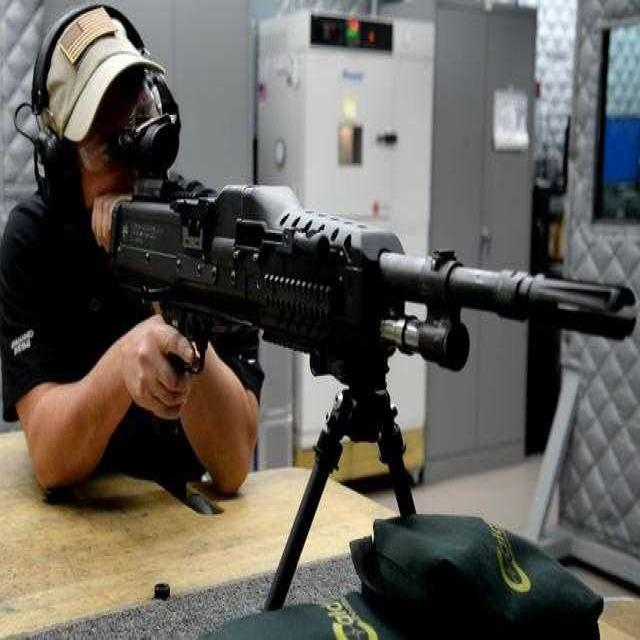heavyweapon: (96, 138, 639, 427)
